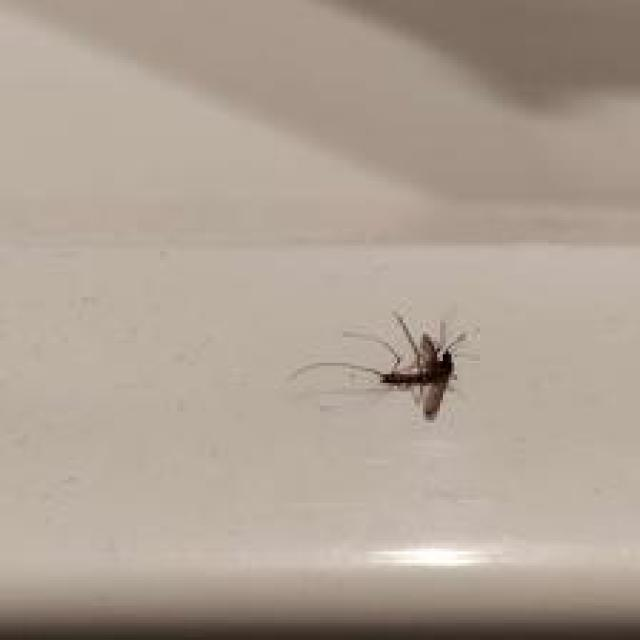Culex: (289, 308, 477, 423)
